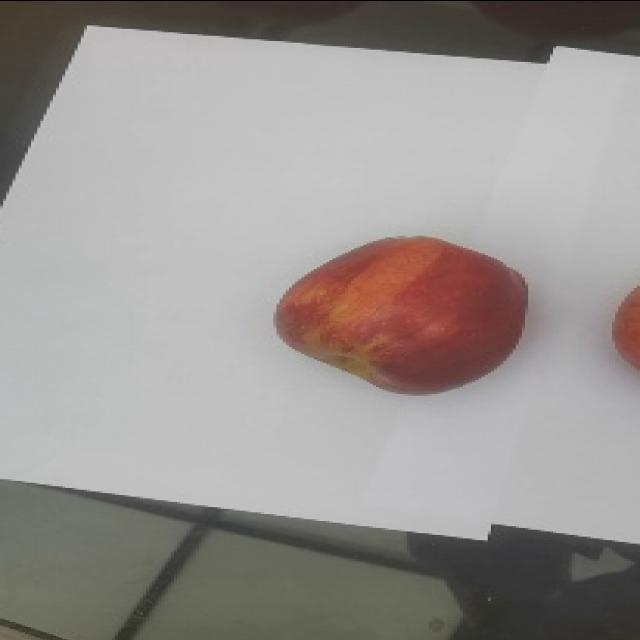Apple: (273, 234, 528, 395), (611, 284, 639, 370)
